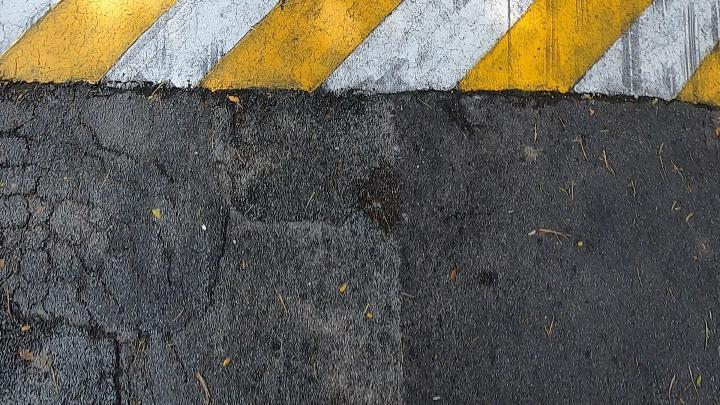Crack: (2, 120, 133, 405), (0, 300, 123, 404), (14, 161, 69, 333), (203, 204, 229, 300), (82, 123, 134, 159), (209, 208, 229, 296), (6, 125, 31, 151)
Lane: (0, 0, 720, 111), (0, 0, 719, 105)
